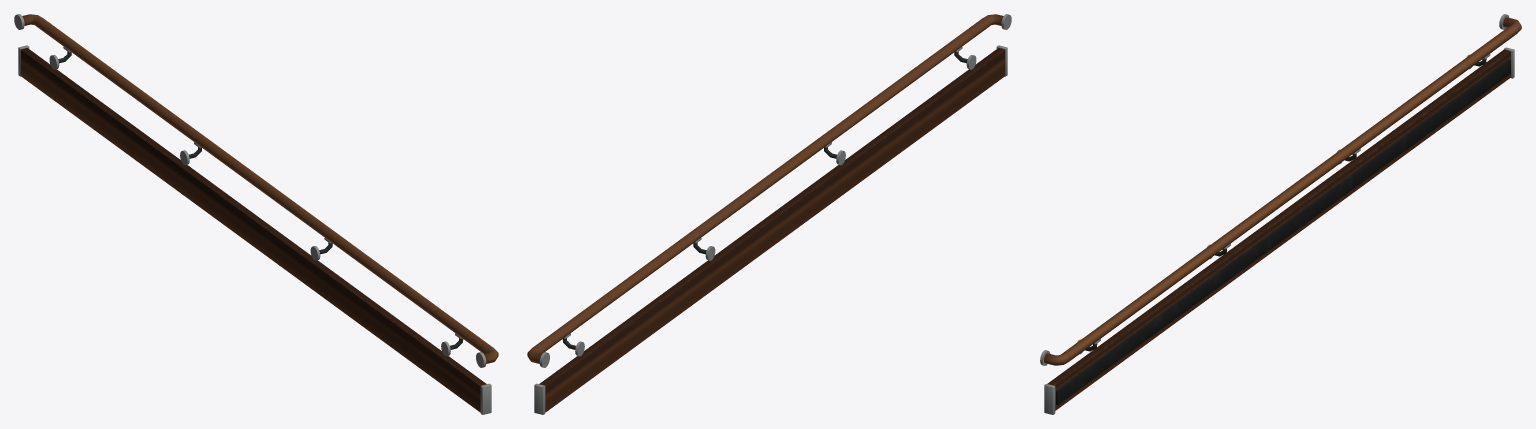
The model's file is CTCC_ENV_HandrailBay.fbx.
3 views of the same model, side by side, from view 1: azimuth 30°, elevation 25°; view 2: azimuth 150°, elevation 25°; view 3: azimuth 330°, elevation 25° (orthographic).
Parts seen in each view (by area): view 1: CTCC_ENV_HandrailBay_LOD0; view 2: CTCC_ENV_HandrailBay_LOD0; view 3: CTCC_ENV_HandrailBay_LOD0.
Part boxes in pixels (box(x1,y1,x2,y2)): CTCC_ENV_HandrailBay_LOD0: box(14, 14, 498, 414); CTCC_ENV_HandrailBay_LOD0: box(527, 14, 1011, 414); CTCC_ENV_HandrailBay_LOD0: box(1040, 14, 1521, 414).
Size of what is drawn, in the model's own units: 0.098 by 0.275 by 3.8.
